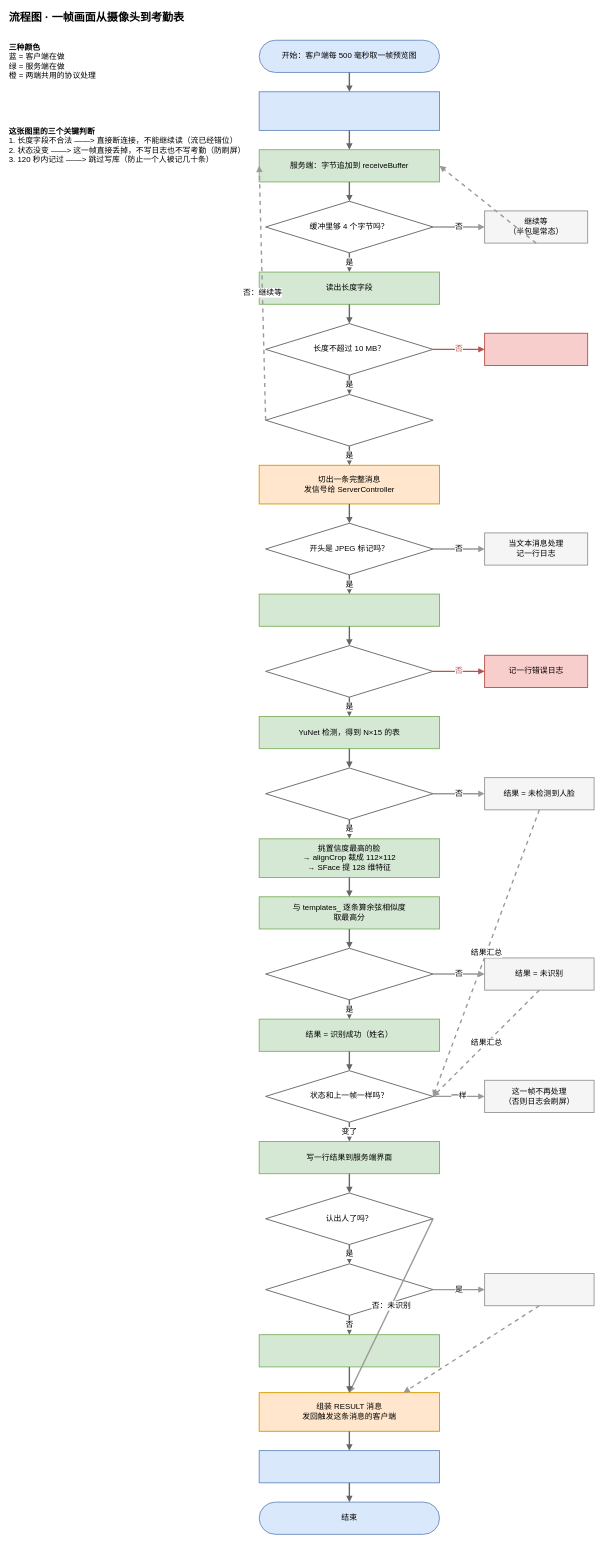
The diagram is 602 pixels wide and 1542 high, and some of its shapes have lost their labels. Each missing label, with the centre of its shape:
120 秒内已经记过吗？: point 349,1289
cv::imdecode 解码: point 349,610
写入 attendance_records check_in + 当时的相似度: point 349,1350
客户端解析，更新界面显示: point 349,1466
整帧收齐了吗？: point 349,420
最高分 ≥ 0.363 吗？: point 349,974
检测到人脸吗？: point 349,793
流已经错位 断开这条连接: point 536,349
编码成 JPEG → FrameProtocol::pack 加 4 字节长度 → socket 发出去: point 349,111
考勤未记录 （120 秒内已记过）: point 539,1289
解码成功吗？: point 349,671
